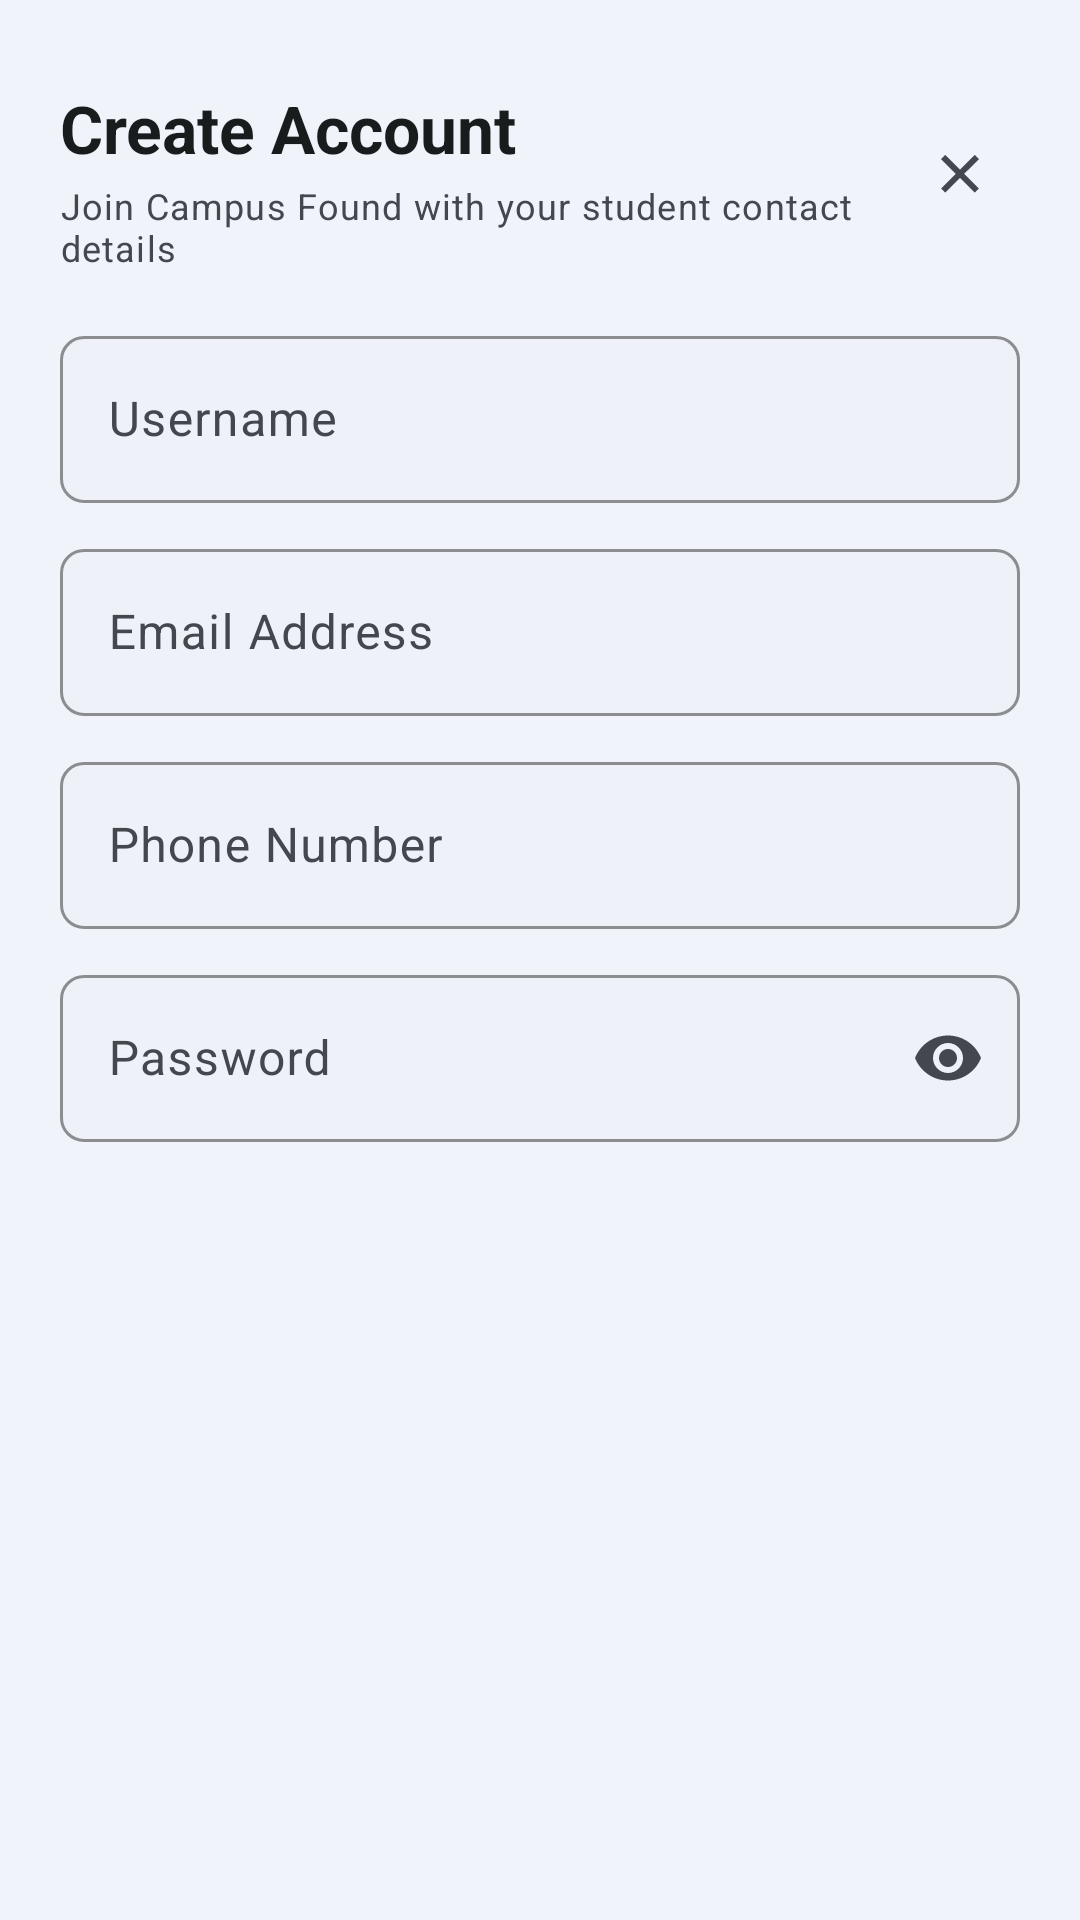

Where to tap for icons on this 1080x1920 app screen, as point (x, y):
Close: point (960, 174)
